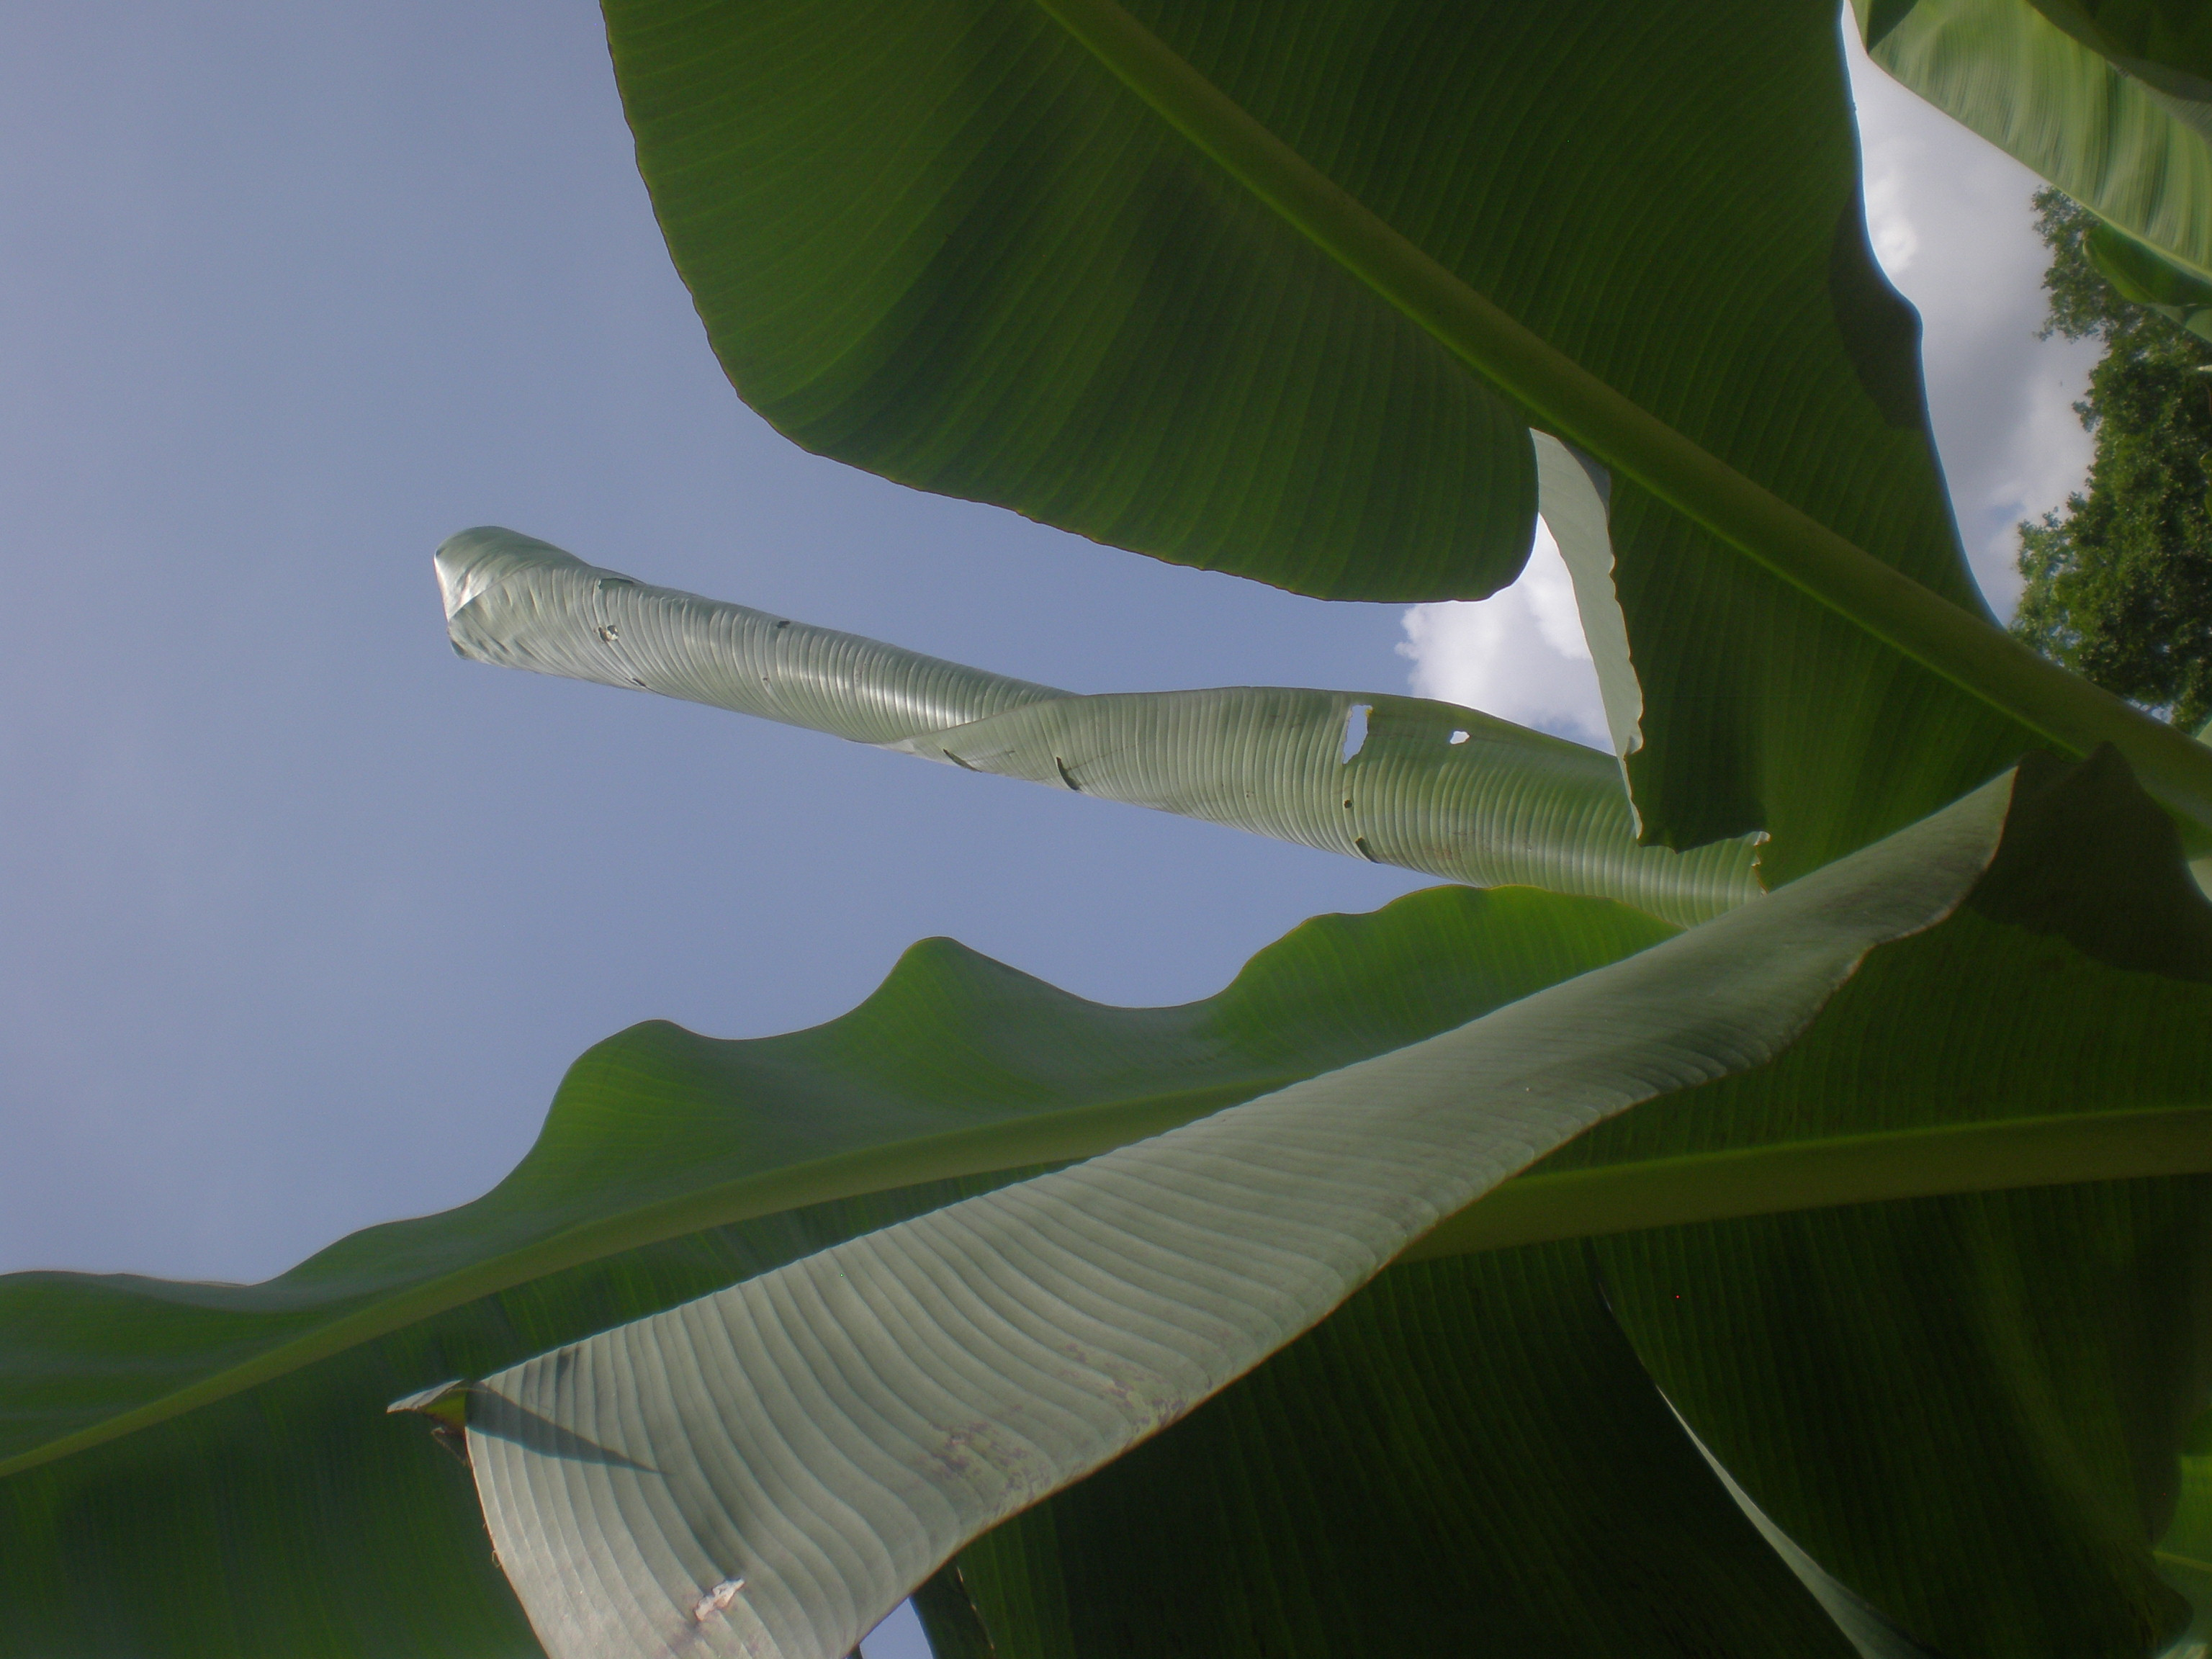candleleafs: (432, 525, 1642, 920)
